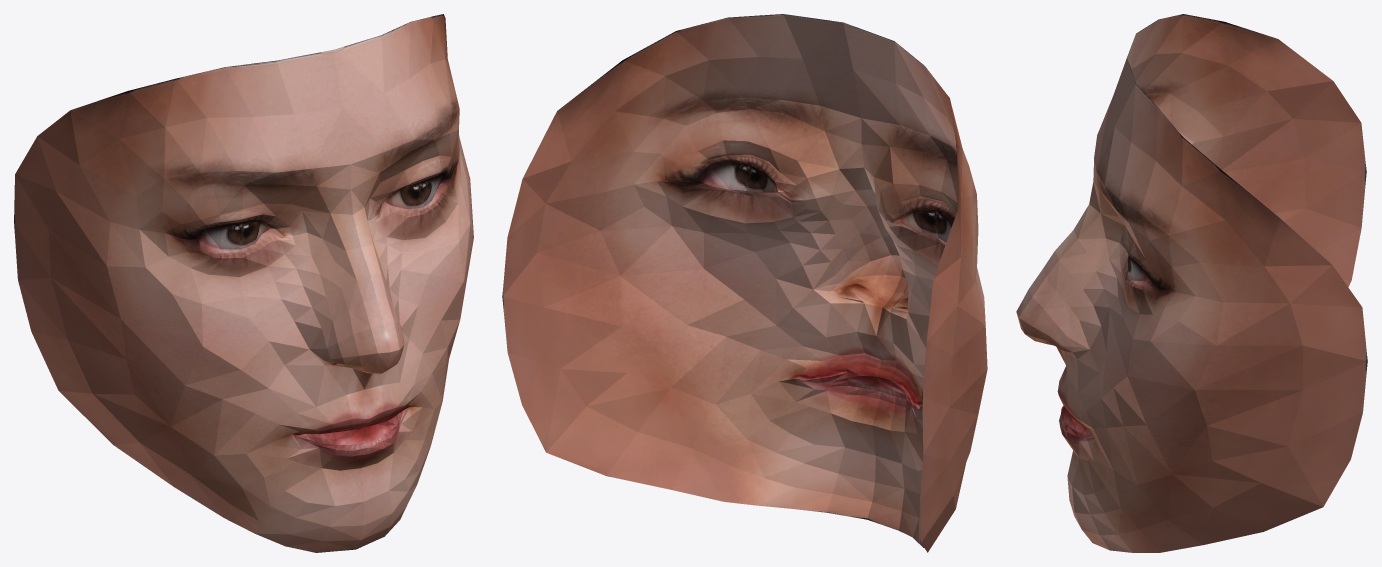
Rendered from Andy_Wah_facemesh.obj.
The picture shows the model from 3 angles, left to right: view 1: azimuth 30°, elevation 25°; view 2: azimuth 150°, elevation 25°; view 3: azimuth 270°, elevation 25°; orthographic projection. The views are drawn at different scales.
Parts seen in each view (by area): view 1: dnzb_Dilraba_advanced_centered.001; view 2: dnzb_Dilraba_advanced_centered.001; view 3: dnzb_Dilraba_advanced_centered.001.
Boxes of the visible parts, left/top/right/bottom form: dnzb_Dilraba_advanced_centered.001: left=14, top=14, right=473, bottom=552; dnzb_Dilraba_advanced_centered.001: left=502, top=14, right=987, bottom=552; dnzb_Dilraba_advanced_centered.001: left=1016, top=14, right=1367, bottom=552.
Bounding box in the file's own units: 14.08 × 16.42 × 11.09.
Materials: 1 (1 with a texture image).
